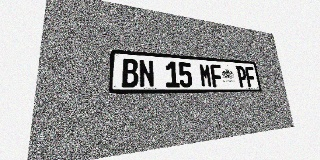1: (165, 61, 180, 87)
5: (178, 62, 193, 87)
B: (122, 58, 139, 88)
F: (210, 64, 223, 87), (245, 66, 257, 87)
M: (199, 63, 213, 87)
N: (138, 59, 155, 87)
P: (236, 66, 248, 87)
